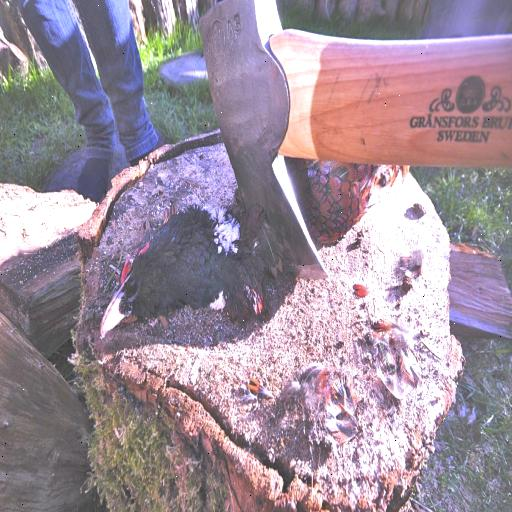Axe: (196, 0, 512, 282)
